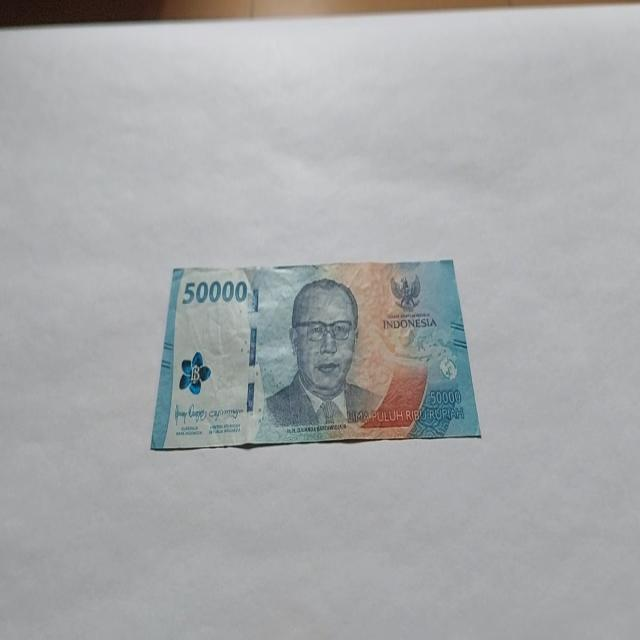lima puluh ribu rupiah: (150, 258, 482, 452), (262, 276, 380, 432)
